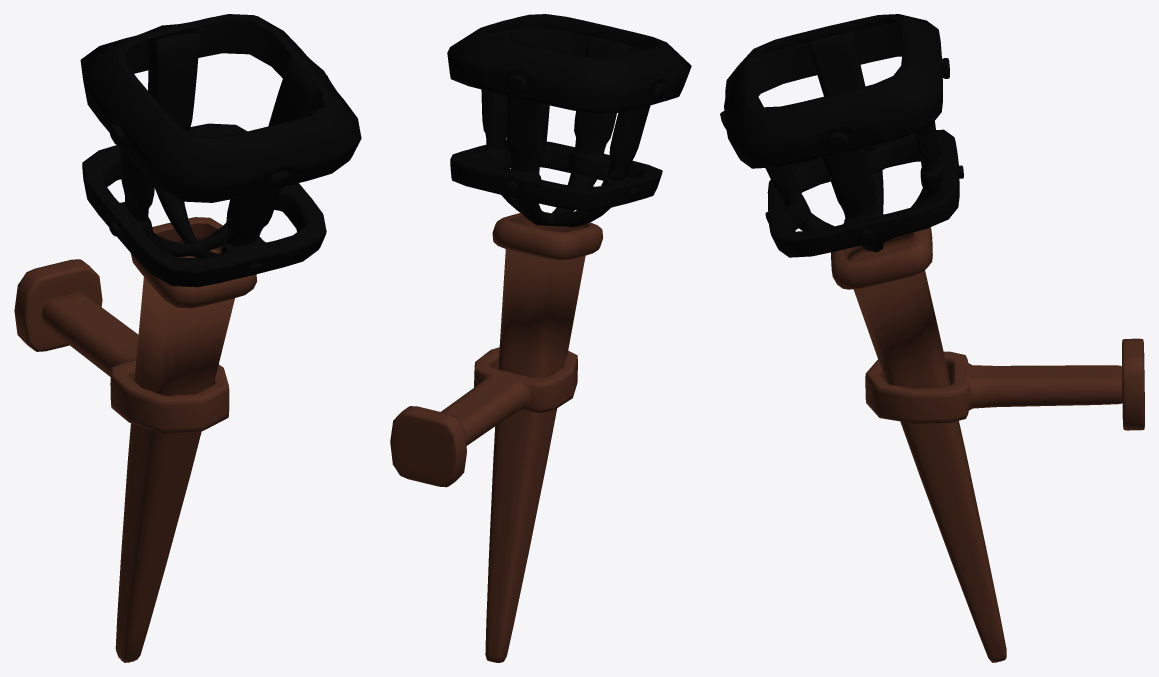
File: torch.fbx
3 views of the same model, side by side, from view 1: azimuth 30°, elevation 25°; view 2: azimuth 150°, elevation 25°; view 3: azimuth 270°, elevation 25° (orthographic). The views are drawn at different scales.
Visible parts, largest first — view 1: Wall-torch; view 2: Wall-torch; view 3: Wall-torch.
Boxes of the visible parts, <box> form: Wall-torch: <box>14,14,361,662</box>; Wall-torch: <box>390,14,691,662</box>; Wall-torch: <box>720,14,1144,662</box>.
Size of the model in its own units: 0.1906 by 0.5659 by 0.3519.
